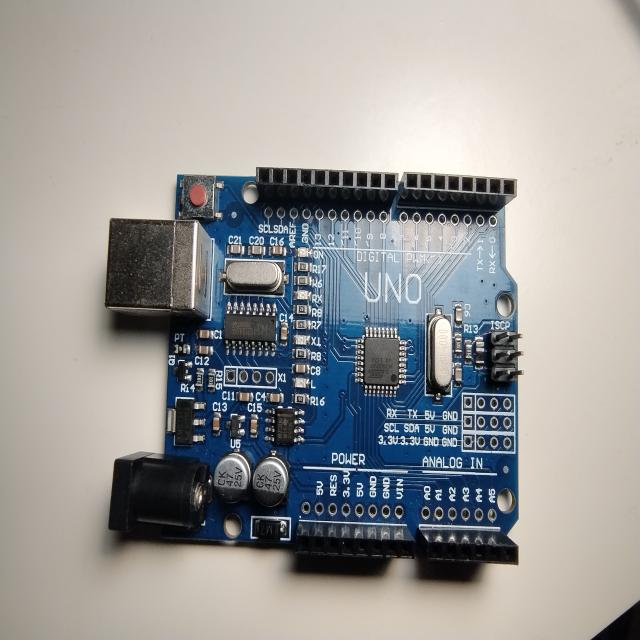arduino: (96, 147, 528, 592)
